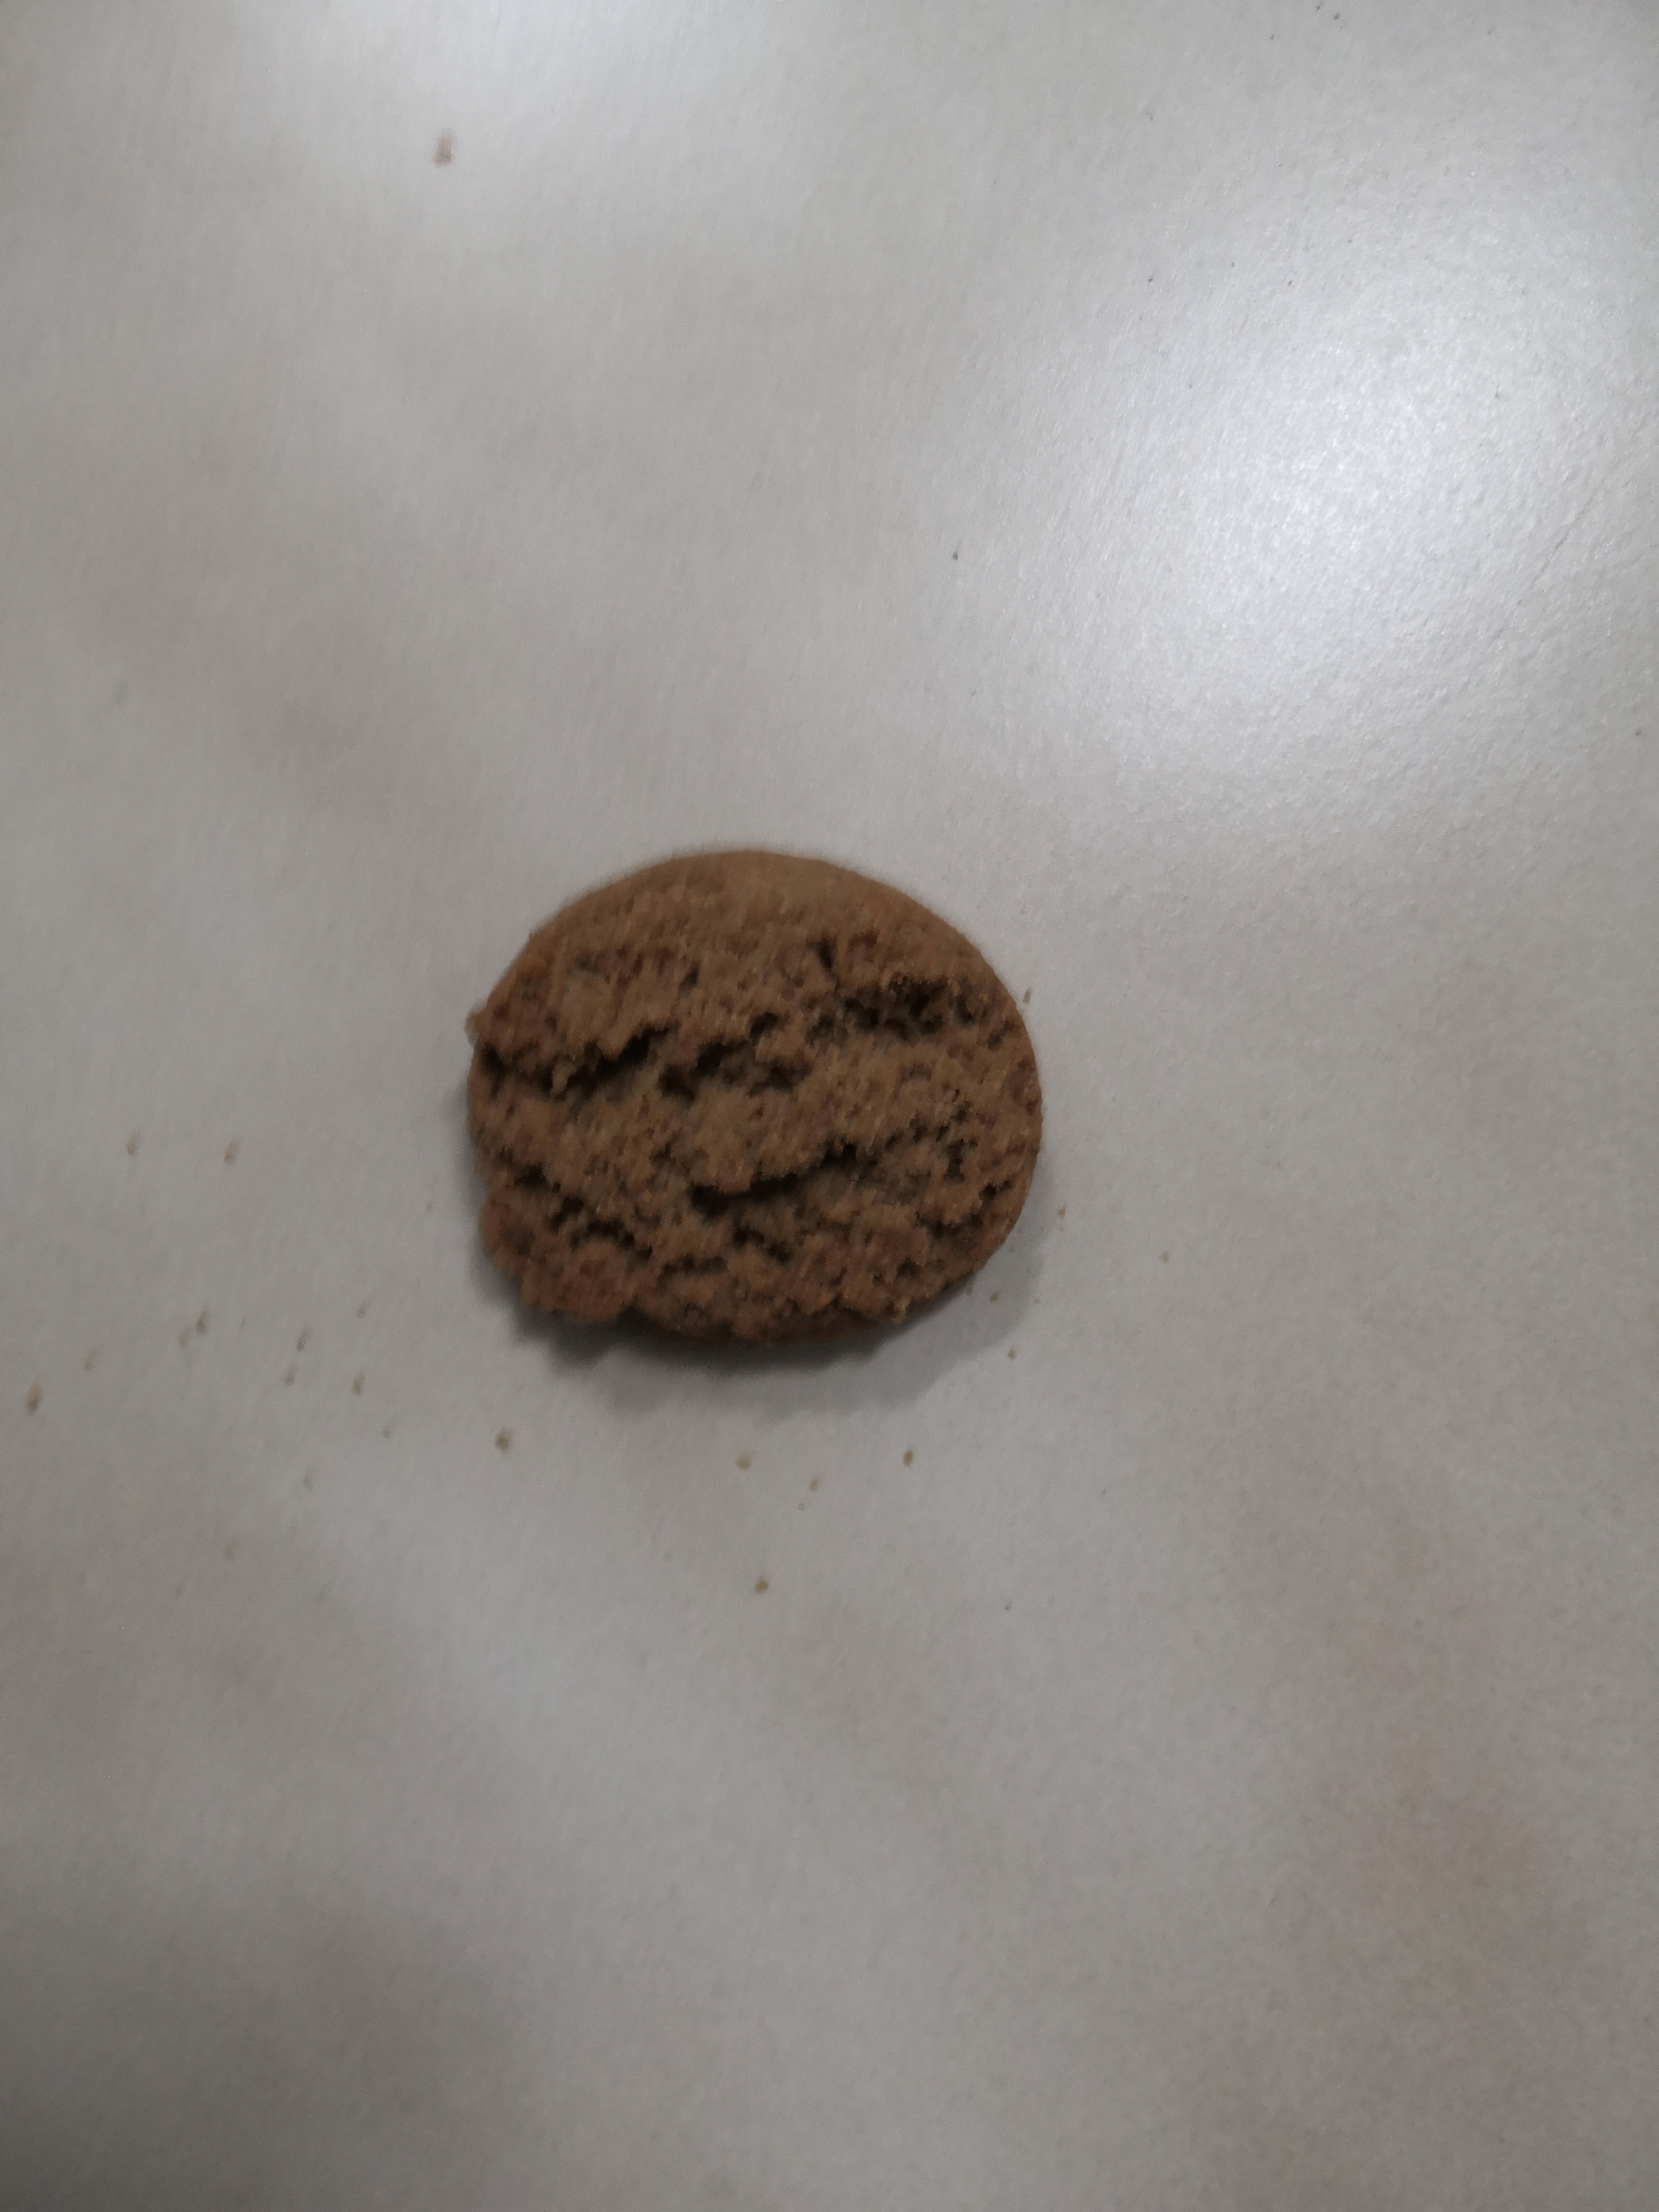Cookie3: (465, 846, 1044, 1360)
